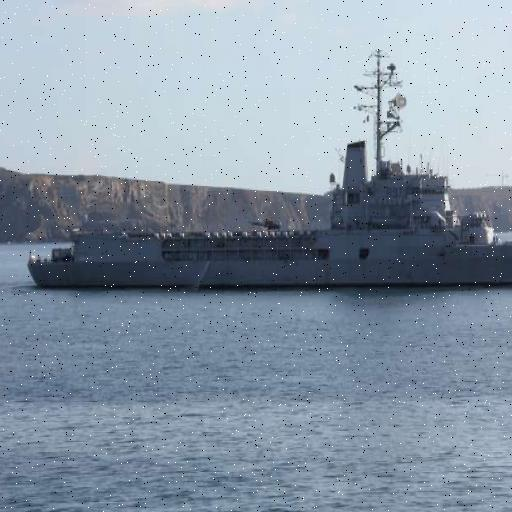Portanaves: (20, 39, 512, 296)
